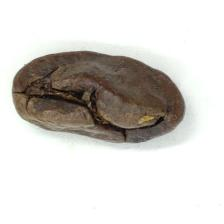NG: (21, 63, 170, 143)
